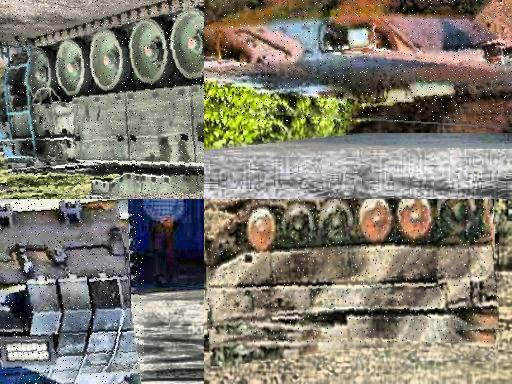tanks: (207, 200, 499, 344), (1, 1, 205, 200), (205, 1, 512, 123), (1, 200, 141, 384)
